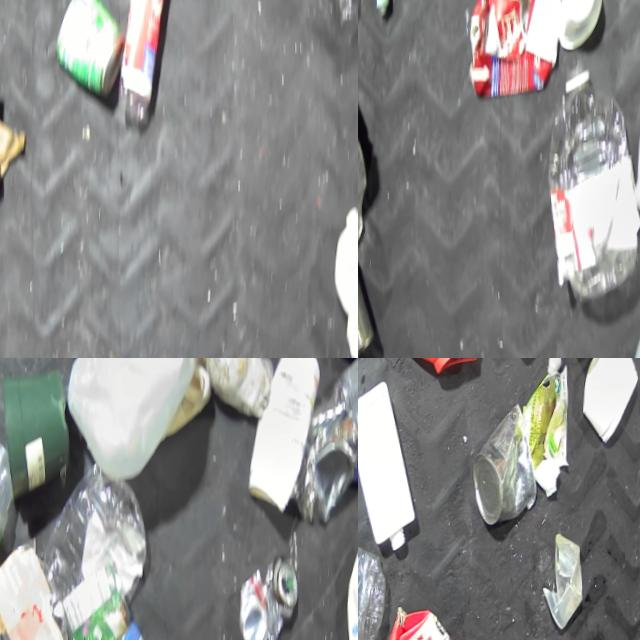can: (467, 403, 542, 533), (52, 0, 128, 99), (233, 551, 302, 640), (67, 580, 131, 640), (358, 248, 379, 358)
milk_jug: (58, 358, 201, 482), (330, 201, 358, 358)
plastic_bottle: (541, 57, 640, 299), (112, 0, 177, 127), (358, 508, 392, 640)
